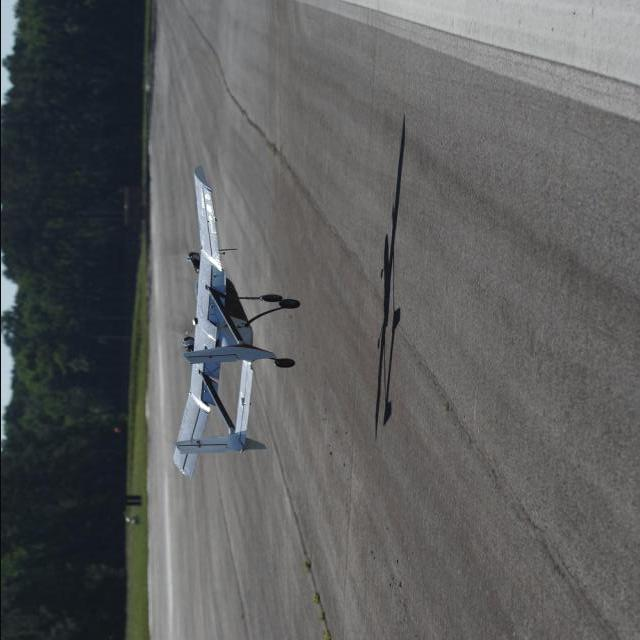plane: (169, 164, 300, 478)
